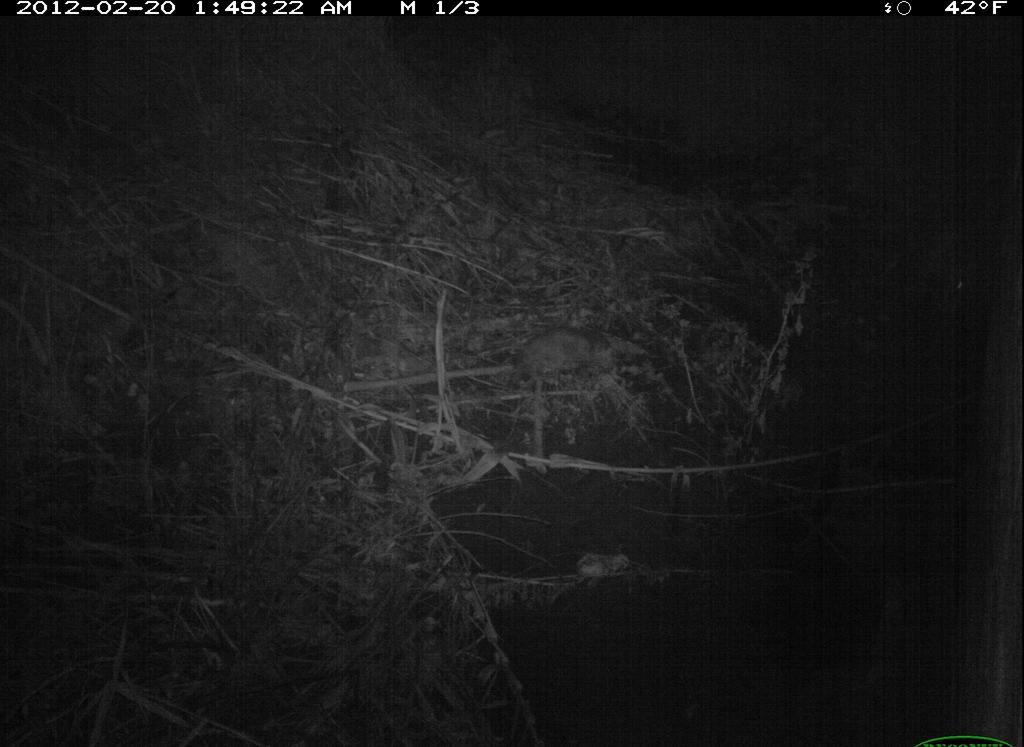opossum: (497, 313, 629, 414)
